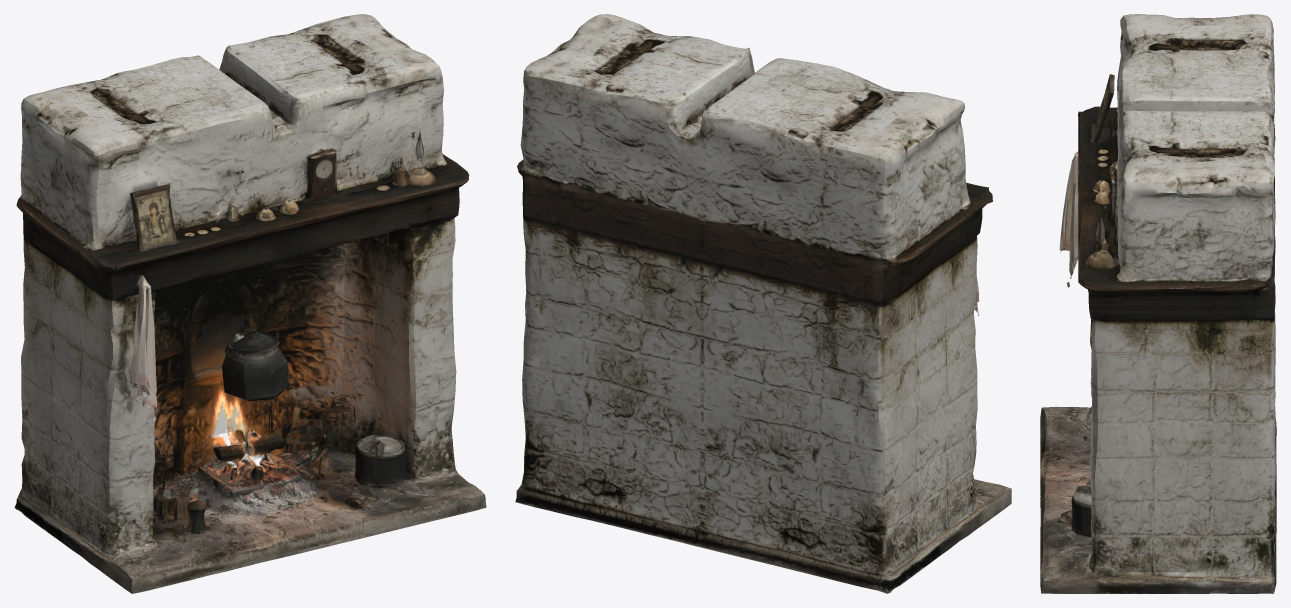
File: fireplace.glb
The picture shows the model from 3 angles, left to right: view 1: azimuth 30°, elevation 25°; view 2: azimuth 150°, elevation 25°; view 3: azimuth 270°, elevation 25°; orthographic projection. The views are drawn at different scales.
Visible parts, largest first — view 1: Mesh0; view 2: Mesh0; view 3: Mesh0.
Part boxes in pixels (x1,y1,x2,y2): Mesh0: (14,14,486,593); Mesh0: (515,14,1011,593); Mesh0: (1040,14,1276,593).
Size of the model in its own units: 1.79 by 1.9 by 0.9872.
1 material, 1 textured.
